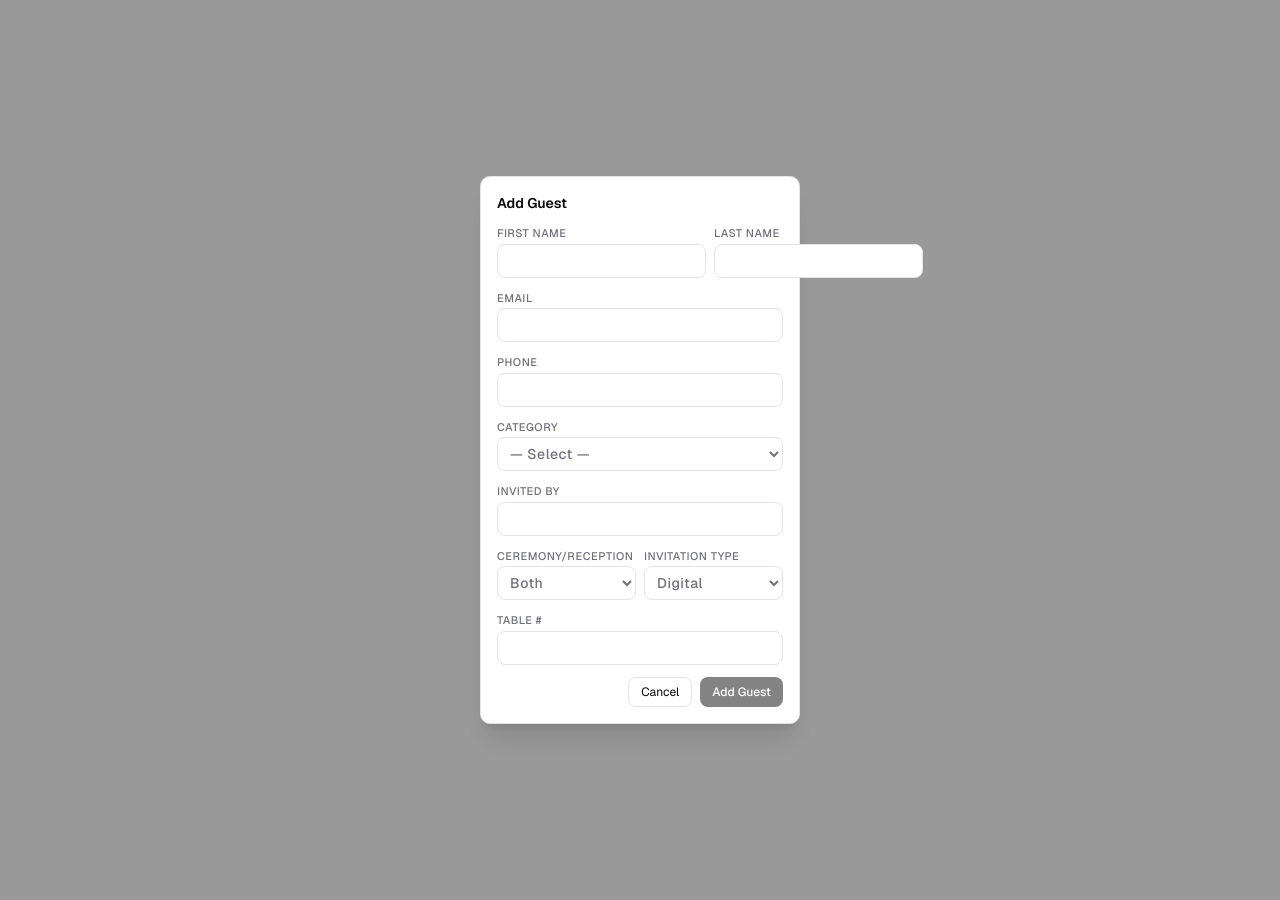
Test case: AddGuestModal › gates the submit button on a non-empty first name
Expected: the button "Add Guest" is disabled, [700,677,783,707]
Step 1. Type "Sam" into the field labelled "First Name" → {"x": 602, "y": 261}, box [497,244,706,278]
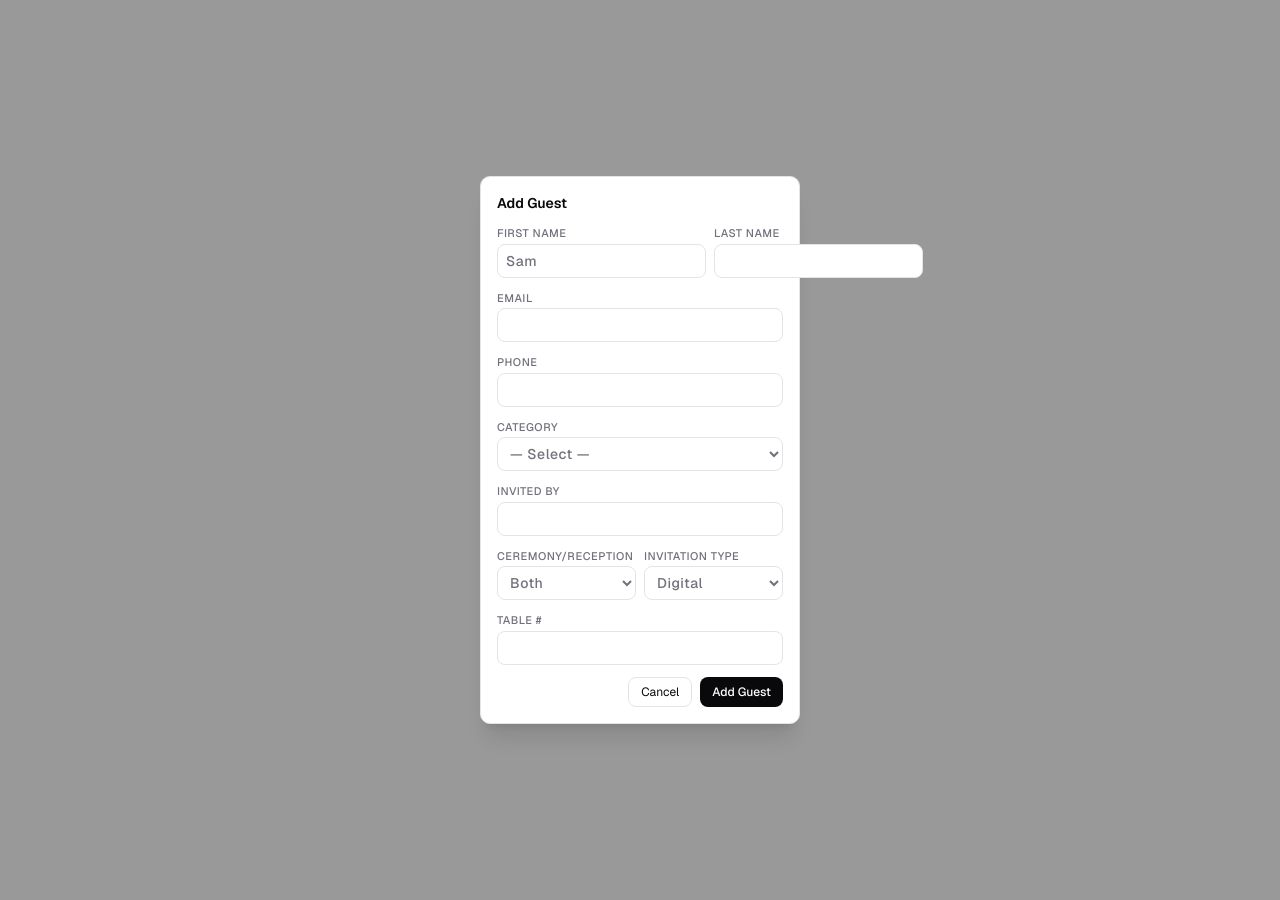
Expected: the button "Add Guest" is enabled, [700,677,783,707]
